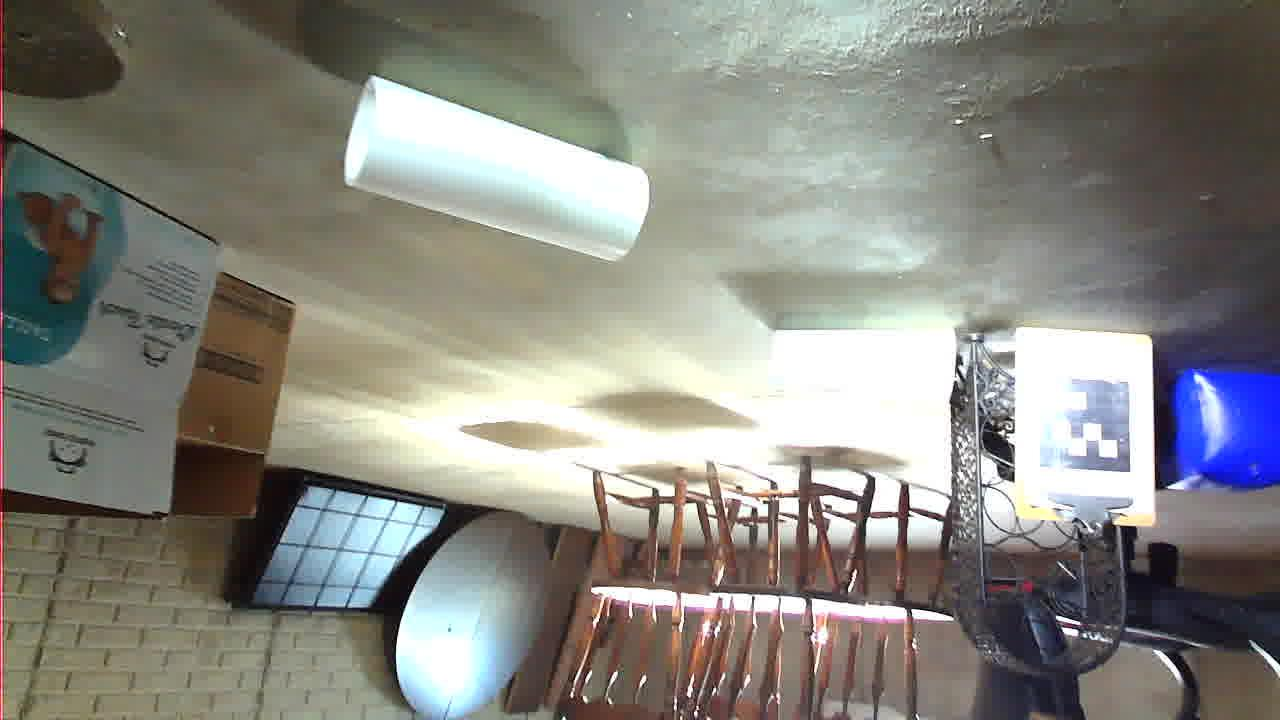coral: (631, 458, 935, 644), (322, 334, 511, 392)
